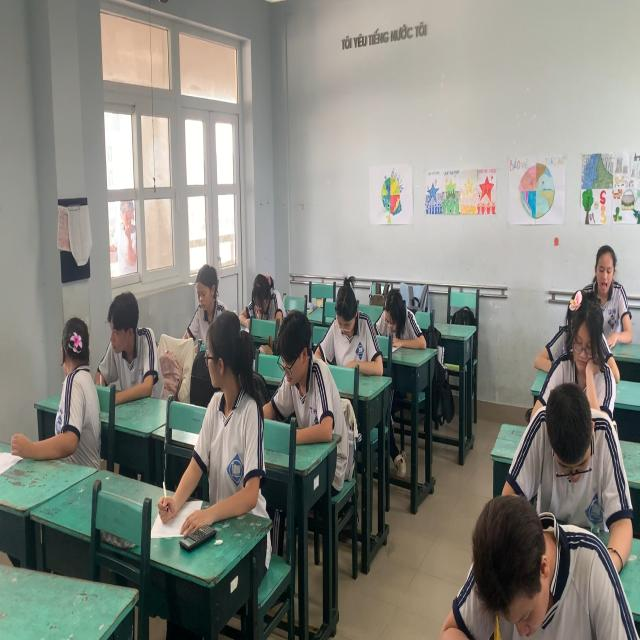cheating: (199, 313, 261, 524), (46, 310, 101, 461)
not_cheating: (461, 493, 603, 640), (102, 285, 154, 420), (539, 386, 599, 486), (273, 306, 319, 427), (561, 286, 605, 376), (329, 276, 370, 364), (246, 258, 276, 316), (378, 281, 410, 334), (193, 258, 220, 316), (594, 234, 619, 286)
